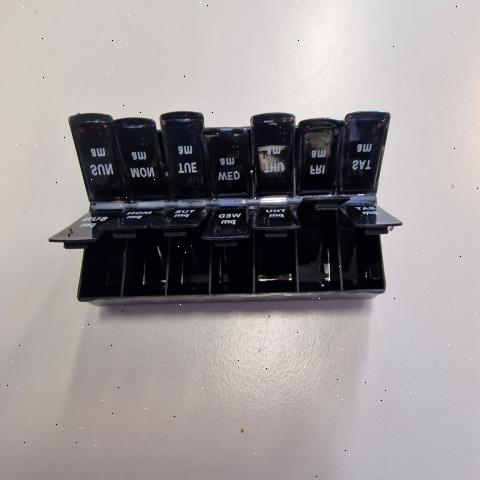Open: (294, 198, 348, 293), (339, 211, 401, 289), (50, 240, 118, 297), (156, 226, 208, 294), (110, 233, 164, 294), (200, 233, 250, 290), (252, 228, 293, 293), (336, 112, 347, 188), (154, 129, 167, 189), (293, 121, 301, 190), (250, 127, 252, 186)
